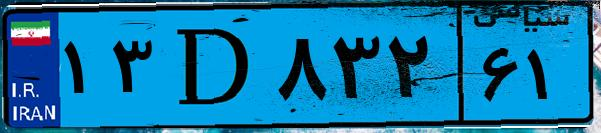1: (57, 26, 110, 100), (525, 38, 570, 115)
2: (385, 28, 445, 110)
3: (330, 28, 385, 110), (110, 28, 158, 98)
6: (475, 38, 525, 113)
8: (270, 28, 330, 110)
D: (158, 12, 270, 120)
